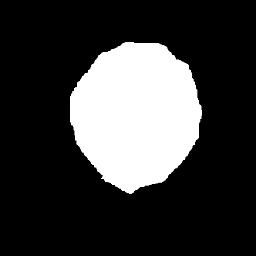mass: (74, 43, 199, 189)
